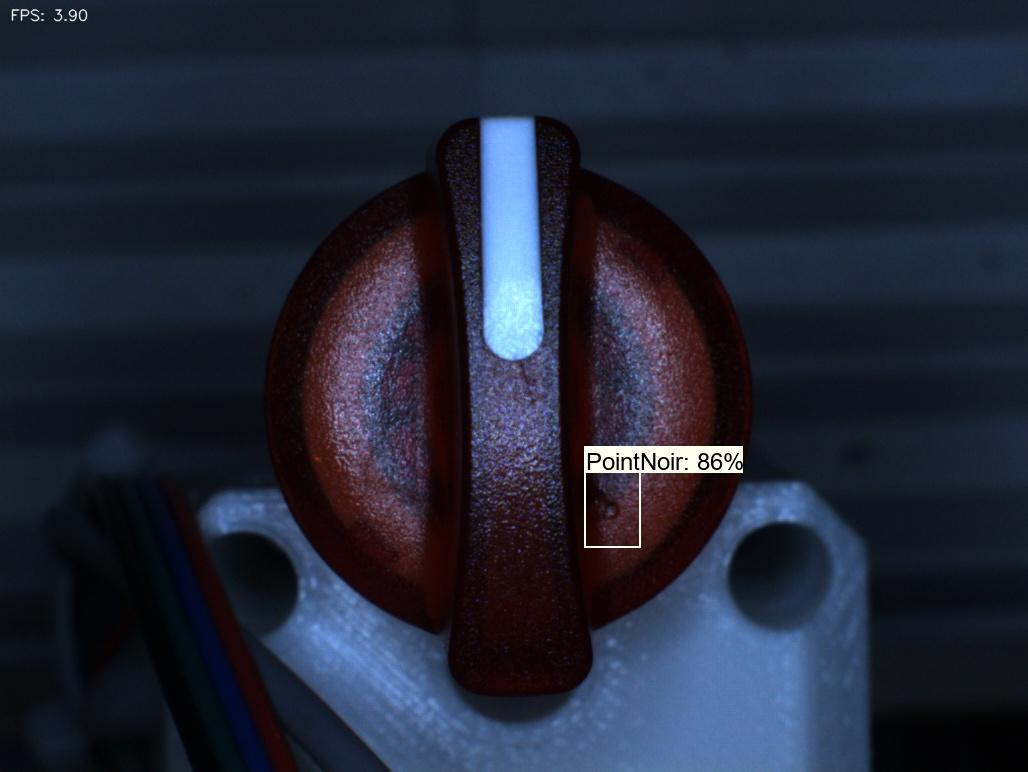Choc: (574, 471, 631, 537)
